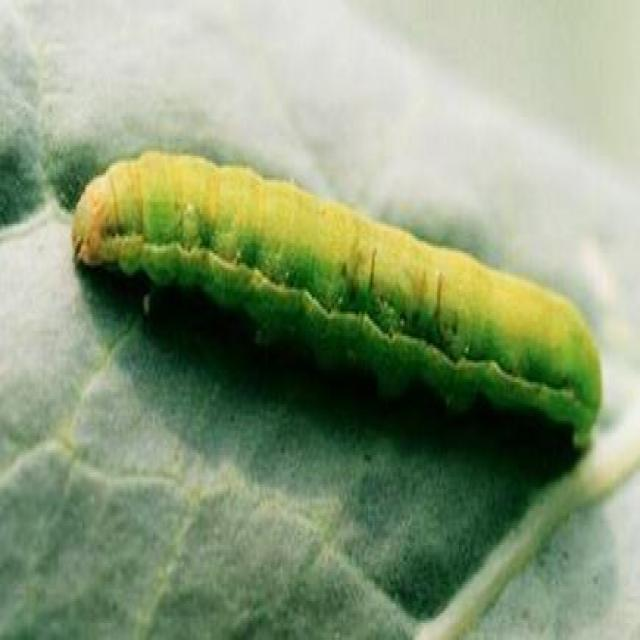BeetArmyWorm-Larva-: (56, 132, 612, 455)
